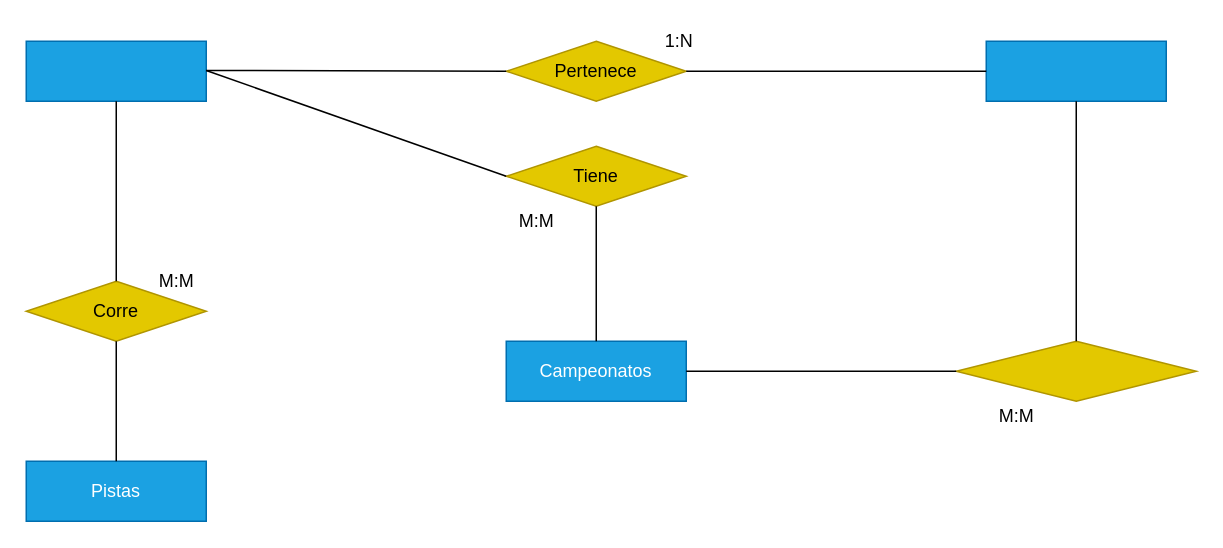
The diagram is 1223 pixels wide and 548 high, and some of its shapes have lost their labels. The shapes that lost their labels are listed below. From the top down, each one's box as (x1, y1, x2, y2) in pixels, then its label:
(25, 40, 206, 101): Pilioto
(985, 40, 1166, 101): Escuderia
(955, 340, 1196, 401): Ganados
